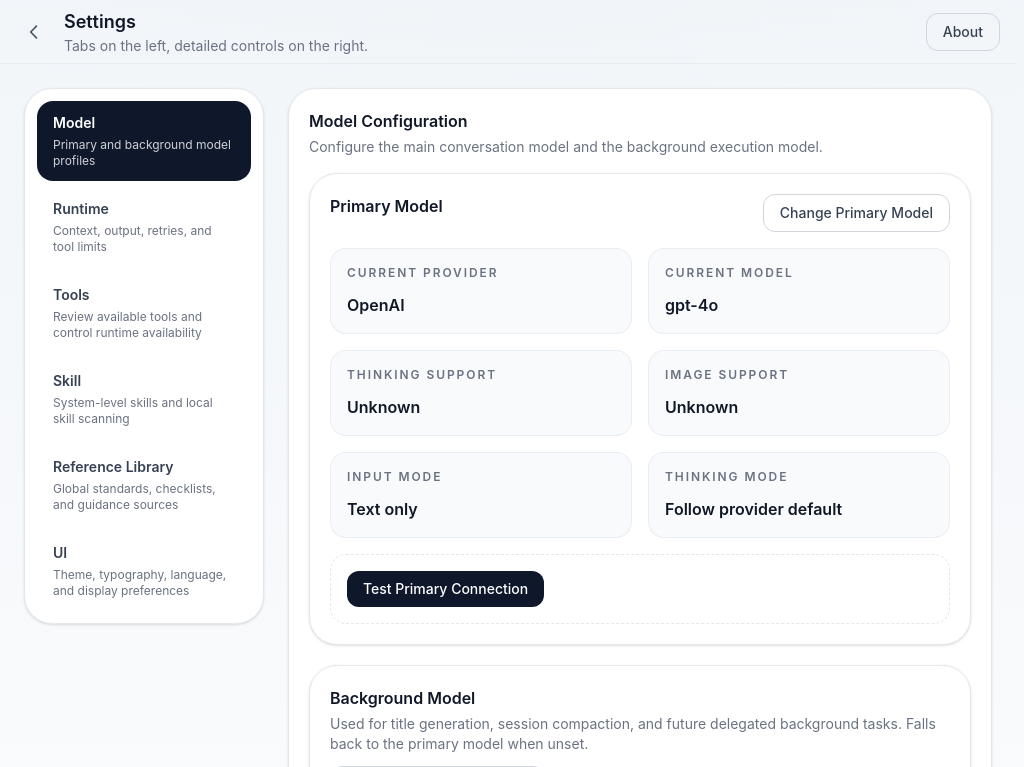
Test case: SettingsPage › shows reference index build progress details while a catalog build is running
This screenshot has width=1024, height=767.
Click the button that starts with "Reference Library". click: (144, 485)
box: 37,445 -> 251,525
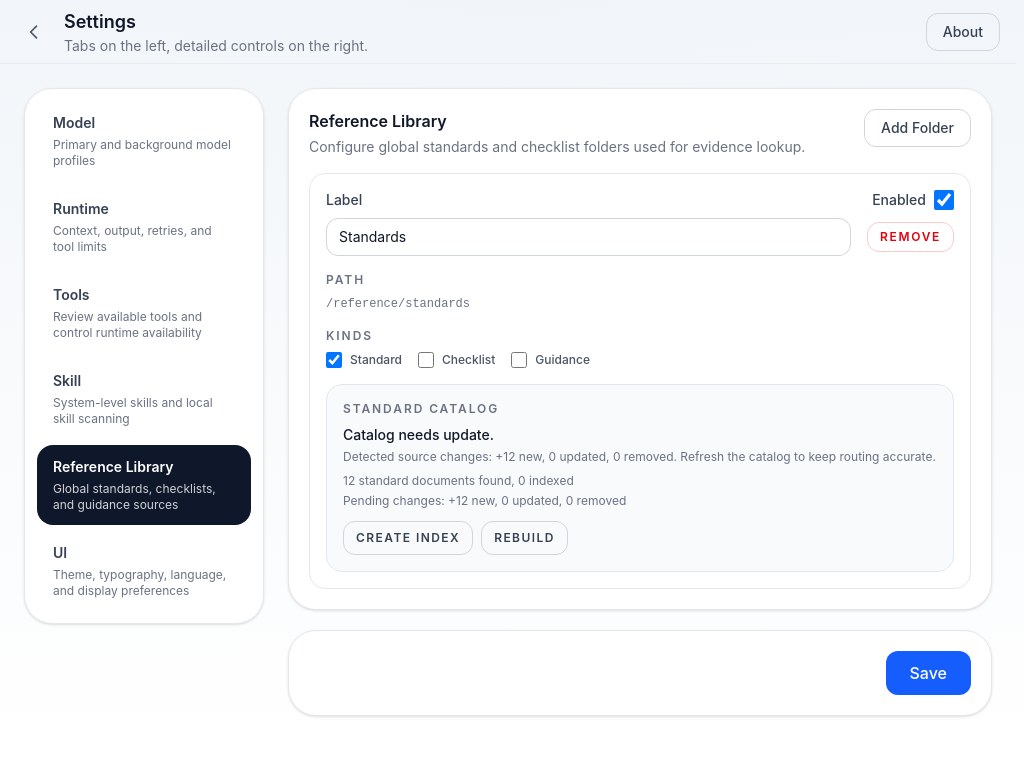
Expected: the button "Create Index" is shown
Click the button "Create Index". click: (408, 538)
box: 343,521 -> 473,555
Wait 800 ms
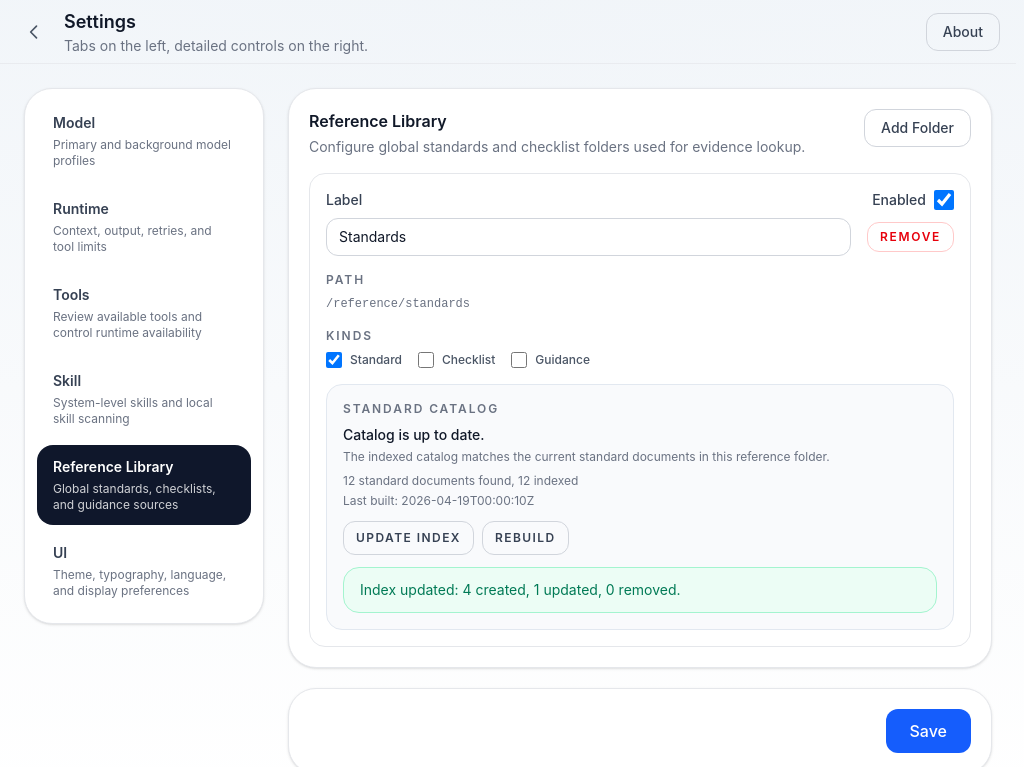
Expected: the text "Index updated: 4 created, 1 updated, 0 removed." is shown, 343,567 -> 937,613
